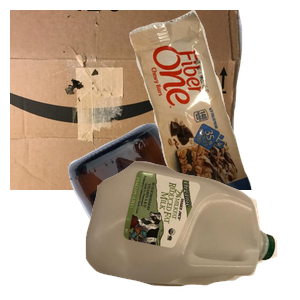cardboard: (10, 10, 245, 190)
glass: (66, 120, 300, 300)
plastic: (83, 159, 300, 300)
trash: (127, 10, 300, 190)
